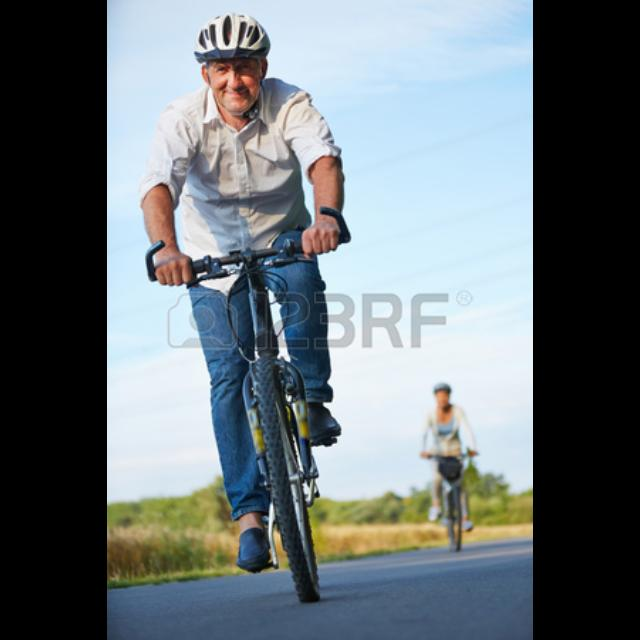With Helmet: (191, 9, 273, 116)
